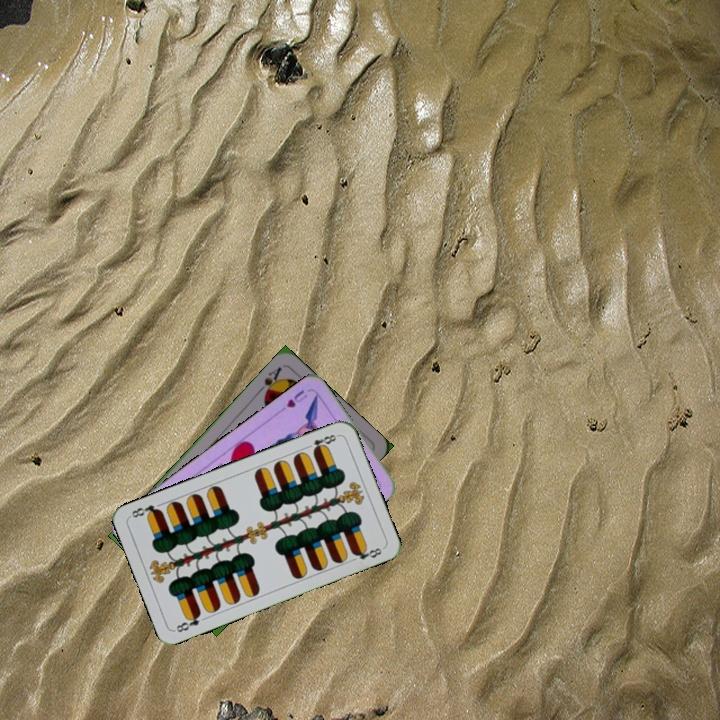E8: (302, 430, 341, 455), (171, 608, 203, 635)
HU: (283, 386, 310, 410)
SA: (254, 362, 284, 400)
